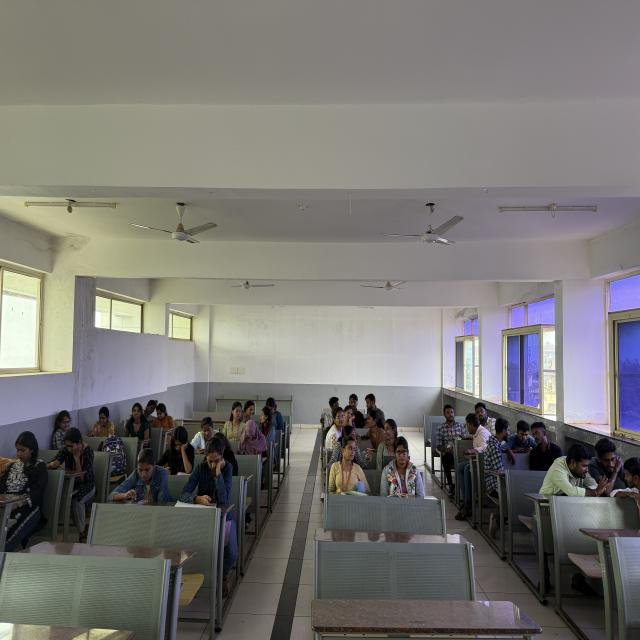Using Phone: (46, 426, 97, 522), (105, 446, 172, 508), (181, 436, 233, 508), (154, 427, 194, 481), (235, 419, 270, 468)
